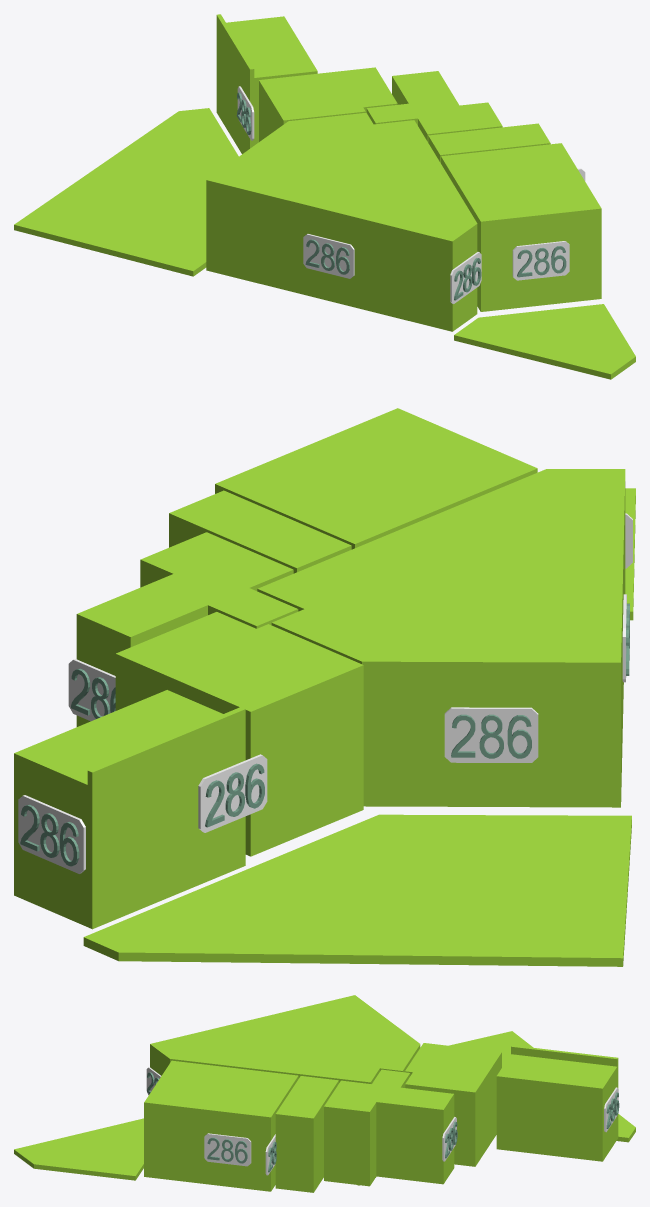
The picture shows the model from 3 angles, top to bottom: view 1: azimuth 30°, elevation 25°; view 2: azimuth 150°, elevation 25°; view 3: azimuth 270°, elevation 25°; orthographic projection. The views are drawn at different scales.
Visible parts, largest first — view 1: g_0, g_6, g_1, g_7, g_5, g_4, g_3, g_2, g_27, g_31, g_23; view 2: g_0, g_6, g_5, g_4, g_1, g_3, g_2, g_15, g_39, g_35, g_19, g_7; view 3: g_0, g_1, g_3, g_5, g_4, g_2, g_7, g_6, g_11.
Boxes of the visible parts, x1,y1,x2,y2 form: g_0: [206, 112, 477, 331]; g_6: [14, 108, 238, 276]; g_1: [441, 143, 601, 311]; g_7: [454, 304, 635, 379]; g_5: [216, 14, 317, 153]; g_4: [259, 67, 397, 141]; g_3: [366, 71, 502, 142]; g_2: [428, 123, 550, 163]; g_27: [512, 241, 569, 280]; g_31: [303, 234, 354, 278]; g_23: [450, 252, 481, 303]; g_0: [257, 469, 625, 807]; g_6: [83, 814, 631, 966]; g_5: [14, 690, 245, 929]; g_4: [115, 612, 363, 856]; g_1: [215, 408, 537, 549]; g_3: [76, 532, 298, 726]; g_2: [169, 490, 351, 573]; g_15: [444, 707, 538, 762]; g_39: [198, 754, 267, 832]; g_35: [18, 795, 85, 873]; g_19: [68, 659, 115, 721]; g_7: [625, 488, 635, 620]; g_0: [150, 995, 420, 1083]; g_1: [144, 1060, 298, 1191]; g_3: [324, 1069, 454, 1186]; g_5: [496, 1045, 618, 1161]; g_4: [405, 1043, 501, 1166]; g_2: [275, 1076, 338, 1192]; g_7: [14, 1118, 143, 1180]; g_6: [449, 1031, 635, 1142]; g_11: [204, 1133, 251, 1166].
Size of the model in its own units: 12.19 by 2.85 by 18.89.
